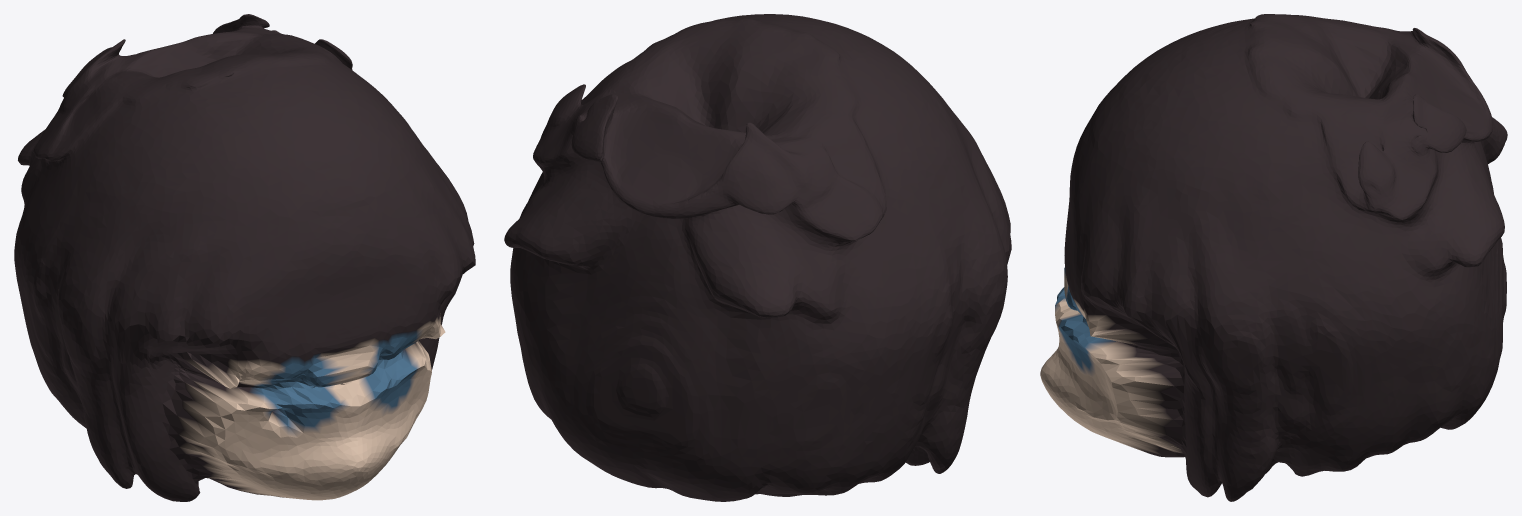
File: head.glb
The picture shows the model from 3 angles, left to right: view 1: azimuth 30°, elevation 25°; view 2: azimuth 150°, elevation 25°; view 3: azimuth 270°, elevation 25°; orthographic projection. The views are drawn at different scales.
Visible parts, largest first — view 1: geometry_0; view 2: geometry_0; view 3: geometry_0.
Boxes of the visible parts, box(x1,y1,x2,y2) form: geometry_0: box(14, 14, 475, 501); geometry_0: box(504, 14, 1011, 501); geometry_0: box(1040, 14, 1507, 501).
Bounding box in the file's own units: 0.7872 × 0.7531 × 0.7829.
